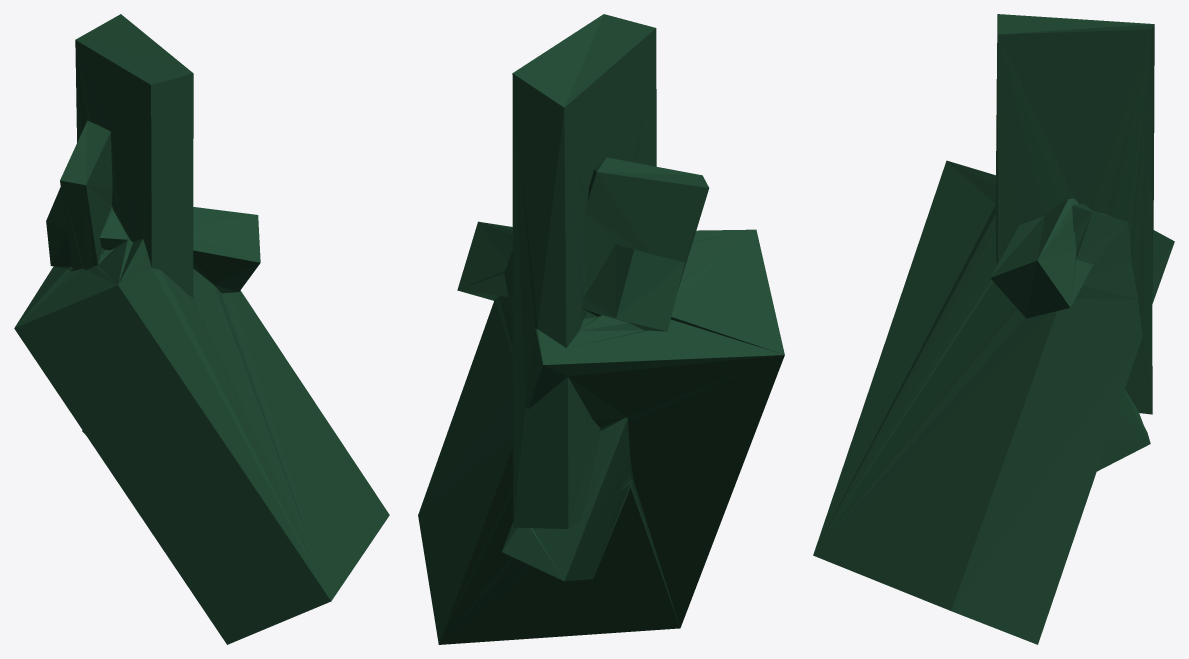
3 renders of one model, left to right at view 1: azimuth 30°, elevation 25°; view 2: azimuth 150°, elevation 25°; view 3: azimuth 270°, elevation 25°, orthographic. The views are drawn at different scales.
Visible parts, largest first — view 1: 410_Cube.1664; view 2: 410_Cube.1664; view 3: 410_Cube.1664.
Part boxes in pixels (x1,y1,x2,y2): 410_Cube.1664: (14, 14, 389, 644); 410_Cube.1664: (418, 14, 784, 644); 410_Cube.1664: (813, 14, 1174, 644).
Size of the model in its own units: 11.65 by 17.75 by 10.36.
